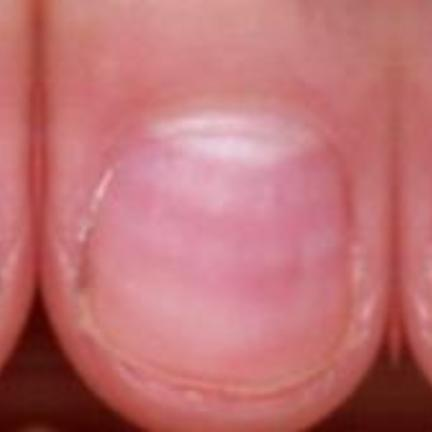Nail: (75, 108, 351, 395)
